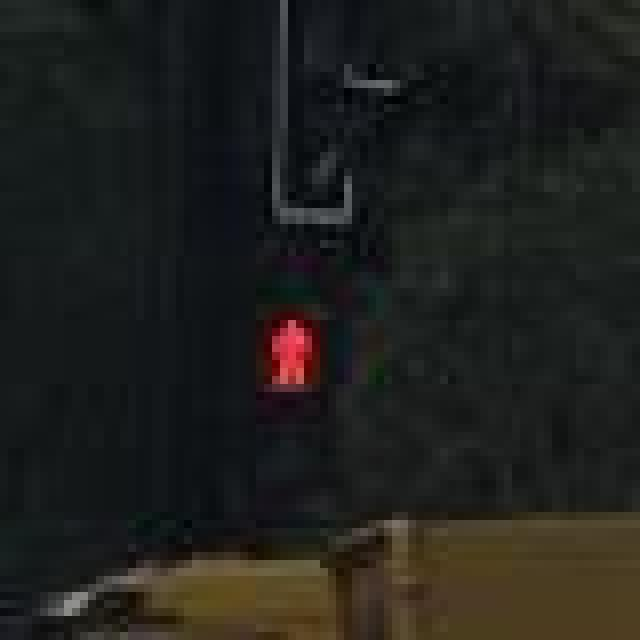redlight: (241, 306, 348, 496)
